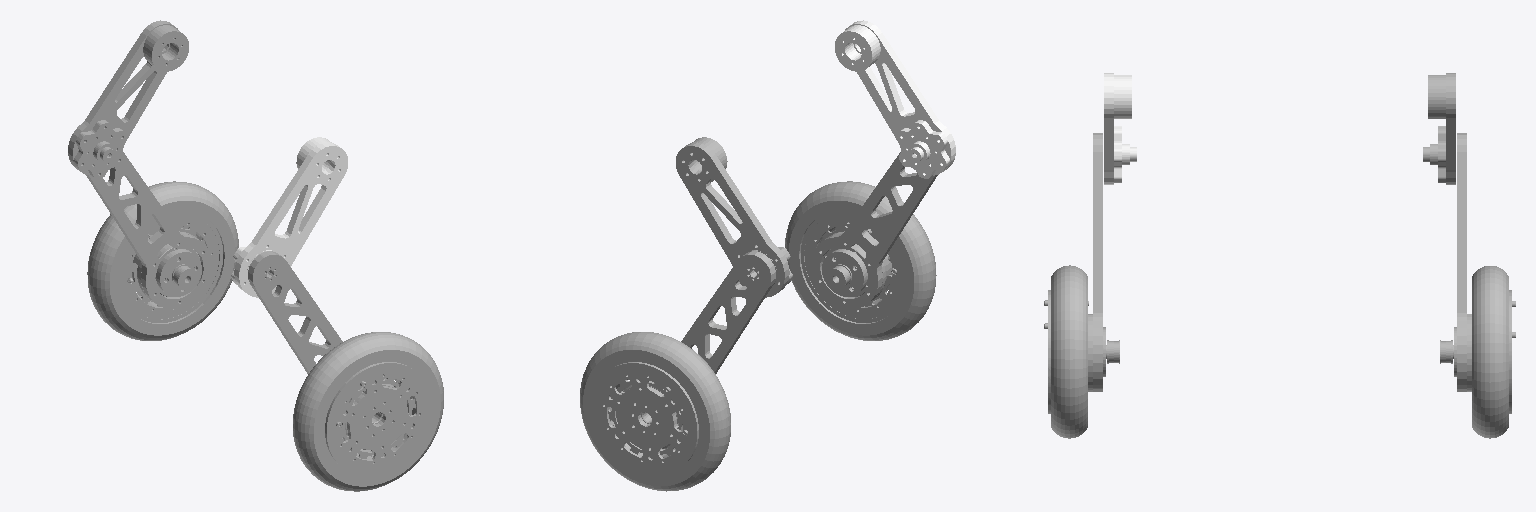
The robot description file, URDF, robot "wl-with-battery":
<?xml version="1.0" encoding="utf-8"?>
<!-- This URDF was automatically created by SolidWorks to URDF Exporter! Originally created by Stephen Brawner (brawner@gmail.com) 
     Commit Version: 1.6.0-4-g7f85cfe  Build Version: 1.6.7995.38578
     For more information, please see http://wiki.ros.org/sw_urdf_exporter -->
<robot
  name="wl-with-battery">
  <link
    name="base_link">
    <inertial>
      <origin
        xyz="-0.023179 -0.0031695 0.031334"
        rpy="0 0 0" />
      <mass
        value="2.7026" />
      <inertia
        ixx="0.0042681"
        ixy="8.7831E-08"
        ixz="8.2307E-06"
        iyy="0.0085582"
        iyz="-3.3884E-07"
        izz="0.01026" />
    </inertial>
    <visual>
      <origin
        xyz="0 0 0"
        rpy="0 0 0" />
      <geometry>
        <mesh
          filename="../meshes/base_link.STL" />
      </geometry>
      <material
        name="">
        <color
          rgba="0.75294 0.75294 0.75294 1" />
      </material>
    </visual>
    <collision>
      <origin
        xyz="0 0 0"
        rpy="0 0 0" />
      <geometry>
        <mesh
          filename="../meshes/base_link.STL" />
      </geometry>
    </collision>
  </link>
  <link
    name="lf0_Link">
    <inertial>
      <origin
        xyz="0.08391 0.00010215 0.021335"
        rpy="0 0 0" />
      <mass
        value="0.19709" />
      <inertia
        ixx="6.5531E-05"
        ixy="-1.7349E-06"
        ixz="-6.6006E-12"
        iyy="0.00037219"
        iyz="3.2939E-11"
        izz="0.00043178" />
    </inertial>
    <visual>
      <origin
        xyz="0 0 0"
        rpy="0 0 0" />
      <geometry>
        <mesh
          filename="../meshes/lf0_Link.STL" />
      </geometry>
      <material
        name="">
        <color
          rgba="0.75294 0.75294 0.75294 1" />
      </material>
    </visual>
    <collision>
      <origin
        xyz="0 0 0"
        rpy="0 0 0" />
      <geometry>
        <mesh
          filename="../meshes/lf0_Link.STL" />
      </geometry>
    </collision>
  </link>
  <joint
    name="lf0_Joint"
    type="revolute">
    <origin
      xyz="-0.055 0.1793 0.054"
      rpy="1.5708 0 3.1416" />
    <parent
      link="base_link" />
    <child
      link="lf0_Link" />
    <axis
      xyz="0 0 -1" />
    <limit
      lower="0.44"
      upper="1.3962"
      effort="50"
      velocity="1000" />
  </joint>
  <link
    name="lf1_Link">
    <inertial>
      <origin
        xyz="-0.11414 -0.039239 0.0025069"
        rpy="0 0 0" />
      <mass
        value="0.26751" />
      <inertia
        ixx="0.0002303"
        ixy="-0.00033994"
        ixz="1.6151E-11"
        iyy="0.0011005"
        iyz="-2.9457E-11"
        izz="0.001326" />
    </inertial>
    <visual>
      <origin
        xyz="0 0 0"
        rpy="0 0 0" />
      <geometry>
        <mesh
          filename="../meshes/lf1_Link.STL" />
      </geometry>
      <material
        name="">
        <color
          rgba="0.75294 0.75294 0.75294 1" />
      </material>
    </visual>
    <collision>
      <origin
        xyz="0 0 0"
        rpy="0 0 0" />
      <geometry>
        <mesh
          filename="../meshes/lf1_Link.STL" />
      </geometry>
    </collision>
  </link>
  <joint
    name="lf1_Joint"
    type="revolute">
    <origin
      xyz="0.15 0 0.033"
      rpy="0 0 0" />
    <parent
      link="lf0_Link" />
    <child
      link="lf1_Link" />
    <axis
      xyz="0 0 -1" />
    <limit
      lower="-2.7925"
      upper="-0.44"
      effort="50"
      velocity="1000" />
  </joint>
  <link
    name="l_wheel_Link">
    <inertial>
      <origin
        xyz="2.5473E-05 6.8852E-05 -0.029019"
        rpy="0 0 0" />
      <mass
        value="1.2715" />
      <inertia
        ixx="0.0035434"
        ixy="-1.2614E-06"
        ixz="-3.313E-07"
        iyy="0.0035458"
        iyz="-4.5271E-09"
        izz="0.0068222" />
    </inertial>
    <visual>
      <origin
        xyz="0 0 0"
        rpy="0 0 0" />
      <geometry>
        <mesh
          filename="../meshes/l_wheel_Link.STL" />
      </geometry>
      <material
        name="">
        <color
          rgba="0.75294 0.75294 0.75294 1" />
      </material>
    </visual>
    <collision>
      <origin
        xyz="0 0 0"
        rpy="0 0 0" />
      <geometry>
        <mesh
          filename="../meshes/l_wheel_Link.STL" />
      </geometry>
    </collision>
  </link>
  <joint
    name="l_wheel_Joint"
    type="revolute">
    <origin
      xyz="-0.22699 -0.077958 0.014"
      rpy="-3.1416 0 0" />
    <parent
      link="lf1_Link" />
    <child
      link="l_wheel_Link" />
    <axis
      xyz="0 0 1" />
    <limit
      lower="0"
      upper="0"
      effort="60"
      velocity="1000" />
  </joint>
  <link
    name="rf0_Link">
    <inertial>
      <origin
        xyz="-0.08391 0.00010215 0.021335"
        rpy="0 0 0" />
      <mass
        value="0.19709" />
      <inertia
        ixx="-6.5531E-05"
        ixy="1.7349E-06"
        ixz="6.6006E-12"
        iyy="0.00037219"
        iyz="3.2939E-11"
        izz="0.00043178" />
    </inertial>
    <visual>
      <origin
        xyz="0 0 0"
        rpy="0 0 0" />
      <geometry>
        <mesh
          filename="../meshes/rf0_Link.STL" />
      </geometry>
      <material
        name="">
        <color
          rgba="1 1 1 1" />
      </material>
    </visual>
    <collision>
      <origin
        xyz="0 0 0"
        rpy="0 0 0" />
      <geometry>
        <mesh
          filename="../meshes/rf0_Link.STL" />
      </geometry>
    </collision>
  </link>
  <joint
    name="rf0_Joint"
    type="revolute">
    <origin
      xyz="-0.055 -0.1793 0.054"
      rpy="1.5708 0 0" />
    <parent
      link="base_link" />
    <child
      link="rf0_Link" />
    <axis
      xyz="0 0 1" />
    <limit
      lower="0.44"
      upper="1.3962"
      effort="50"
      velocity="1000" />
  </joint>
  <link
    name="rf1_Link">
    <inertial>
      <origin
        xyz="0.11416 -0.039171 0.0020069"
        rpy="0 0 0" />
      <mass
        value="0.26751" />
      <inertia
        ixx="0.00022925"
        ixy="0.00033859"
        ixz="5.3268E-12"
        iyy="0.0011016"
        iyz="3.3144E-11"
        izz="0.001326" />
    </inertial>
    <visual>
      <origin
        xyz="0 0 0"
        rpy="0 0 0" />
      <geometry>
        <mesh
          filename="../meshes/rf1_Link.STL" />
      </geometry>
      <material
        name="">
        <color
          rgba="0.75294 0.75294 0.75294 1" />
      </material>
    </visual>
    <collision>
      <origin
        xyz="0 0 0"
        rpy="0 0 0" />
      <geometry>
        <mesh
          filename="../meshes/rf1_Link.STL" />
      </geometry>
    </collision>
  </link>
  <joint
    name="rf1_Joint"
    type="revolute">
    <origin
      xyz="-0.15 0 0.0335"
      rpy="0 0 0" />
    <parent
      link="rf0_Link" />
    <child
      link="rf1_Link" />
    <axis
      xyz="0 0 -1" />
    <limit
      lower="0.44"
      upper="2.7925"
      effort="50"
      velocity="1000" />
  </joint>
  <link
    name="r_wheel_Link">
    <inertial>
      <origin
        xyz="4.5238E-05 -5.7818E-05 0.029019"
        rpy="0 0 0" />
      <mass
        value="1.2715" />
      <inertia
        ixx="0.0035429"
        ixy="3.3314E-07"
        ixz="3.1693E-07"
        iyy="0.0035463"
        iyz="9.6619E-08"
        izz="0.0068222" />
    </inertial>
    <visual>
      <origin
        xyz="0 0 0"
        rpy="0 0 0" />
      <geometry>
        <mesh
          filename="../meshes/r_wheel_Link.STL" />
      </geometry>
      <material
        name="">
        <color
          rgba="0.75294 0.75294 0.75294 1" />
      </material>
    </visual>
    <collision>
      <origin
        xyz="0 0 0"
        rpy="0 0 0" />
      <geometry>
        <mesh
          filename="../meshes/r_wheel_Link.STL" />
      </geometry>
    </collision>
  </link>
  <joint
    name="r_wheel_Joint"
    type="revolute">
    <origin
      xyz="0.22699 -0.077958 0.0135"
      rpy="0 0 3.1416" />
    <parent
      link="rf1_Link" />
    <child
      link="r_wheel_Link" />
    <axis
      xyz="0 0 -1" />
    <limit
      lower="0"
      upper="0"
      effort="5"
      velocity="1000" />
  </joint>
</robot>

--- Facts derived from the render (not from the file) ---
3 views of the same robot in one strip: view 1: azimuth 30°, elevation 25°; view 2: azimuth 150°, elevation 25°; view 3: azimuth 270°, elevation 25° (orthographic).
Robot: wl-with-battery — 7 links, 6 joints (6 revolute); root link base_link; default pose: all joints at 0 but 4 set to mid-range because 0 is outside their limits (lf0_Joint = 0.9181, lf1_Joint = -1.62, rf0_Joint = 0.9181, rf1_Joint = 1.62).
Links seen in each view (by area): view 1: r_wheel_Link, l_wheel_Link, lf0_Link, lf1_Link, rf0_Link, rf1_Link; view 2: l_wheel_Link, r_wheel_Link, rf0_Link, rf1_Link, lf0_Link, lf1_Link; view 3: r_wheel_Link, l_wheel_Link, lf1_Link, rf1_Link, lf0_Link, rf0_Link.
Boxes of the visible links, x1,y1,x2,y2 form: r_wheel_Link: [293, 332, 443, 491]; l_wheel_Link: [87, 181, 238, 340]; lf0_Link: [68, 20, 188, 178]; lf1_Link: [86, 152, 212, 308]; rf0_Link: [231, 137, 347, 297]; rf1_Link: [248, 251, 342, 437]; l_wheel_Link: [580, 332, 730, 491]; r_wheel_Link: [785, 181, 936, 340]; rf0_Link: [835, 20, 955, 178]; rf1_Link: [811, 152, 937, 308]; lf0_Link: [676, 137, 792, 297]; lf1_Link: [681, 251, 775, 373]; r_wheel_Link: [1044, 265, 1088, 438]; l_wheel_Link: [1472, 266, 1515, 438]; lf1_Link: [1440, 133, 1471, 391]; rf1_Link: [1088, 133, 1119, 391]; lf0_Link: [1423, 73, 1455, 184]; rf0_Link: [1104, 73, 1136, 184].
Bounding box of the posed robot: 0.2653 × 0.569 × 0.4578 m (x, y, z).
6 mesh visuals loaded from 7 distinct referenced files (6 binary STL); not drawn: 1 (reference not matched to a file when rendering).
